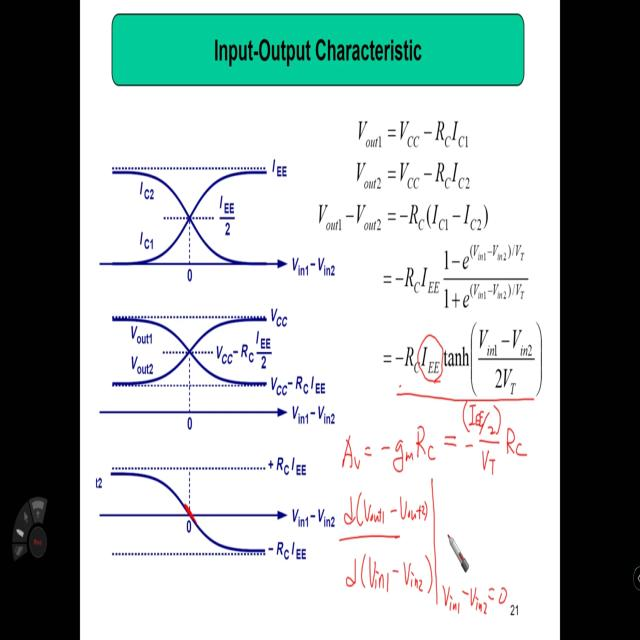panseo: (335, 399, 535, 626)
